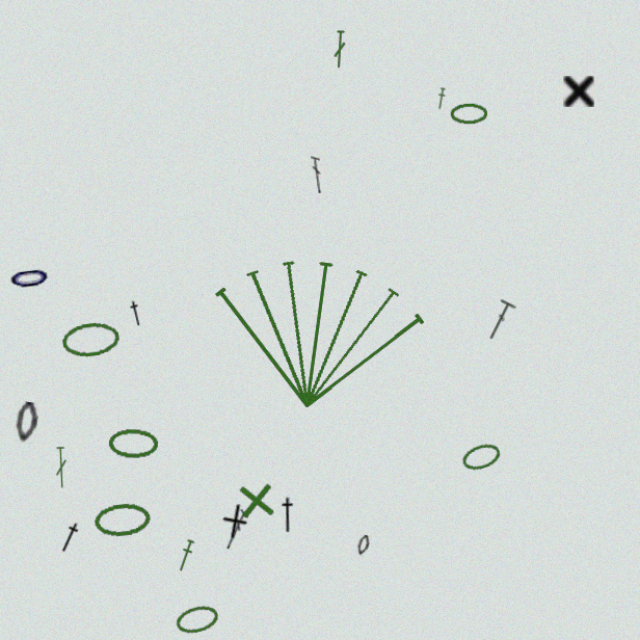chain: (72, 314, 131, 353), (103, 489, 161, 526), (181, 586, 226, 620), (20, 257, 65, 291), (118, 419, 167, 449), (456, 430, 498, 463), (27, 393, 52, 434), (447, 106, 483, 127), (356, 521, 371, 543)
double: (479, 295, 511, 337), (228, 497, 254, 537), (66, 437, 80, 477), (334, 36, 348, 73), (313, 157, 325, 193)
fan: (201, 224, 439, 415)
half_double: (66, 507, 96, 542), (182, 525, 203, 559), (281, 485, 301, 520), (136, 295, 154, 322), (433, 91, 444, 113)
single: (239, 467, 282, 510), (224, 490, 255, 528), (556, 80, 586, 110)
